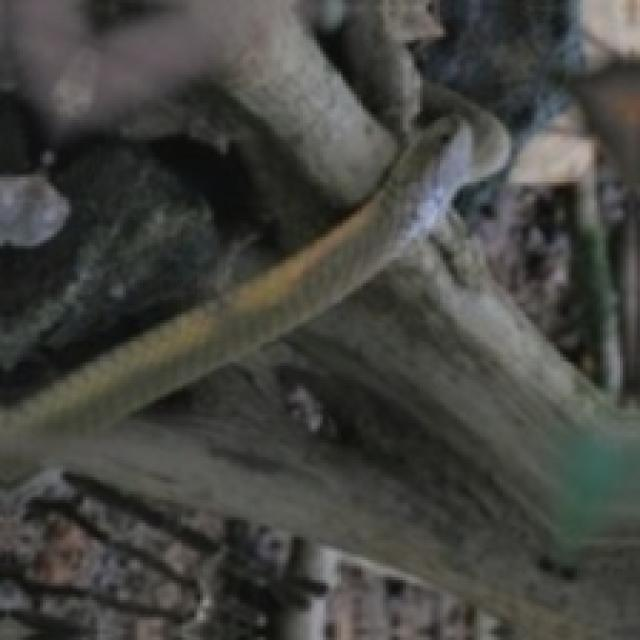king cobra: (2, 118, 470, 438)
